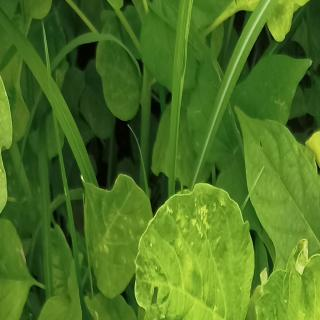karat_putih: (81, 173, 146, 302)
virus_keriting: (132, 183, 233, 320)
